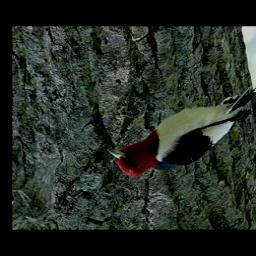Woodpecker: (101, 76, 256, 185)
